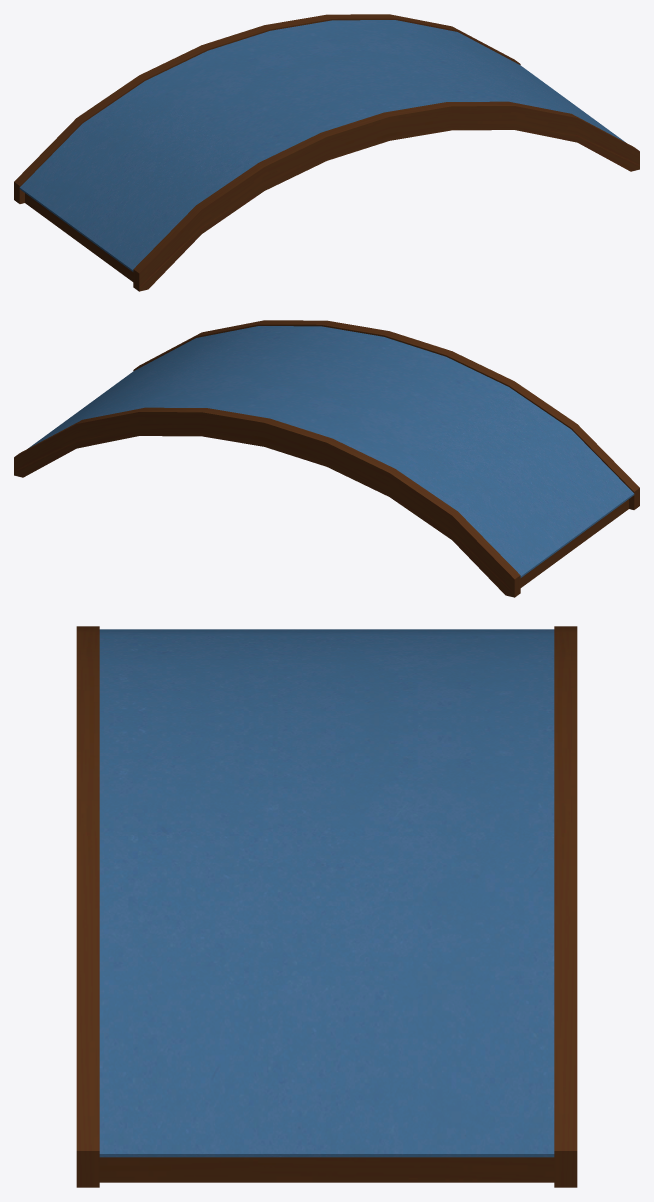
File: MerchBooth_Roof.fbx
The picture shows the model from 3 angles, top to bottom: view 1: azimuth 30°, elevation 25°; view 2: azimuth 150°, elevation 25°; view 3: azimuth 270°, elevation 25°; orthographic projection. The views are drawn at different scales.
Parts seen in each view (by area): view 1: MerchBooth_Roof; view 2: MerchBooth_Roof; view 3: MerchBooth_Roof.
Part boxes in pixels (box(x1,y1,x2,y2)): MerchBooth_Roof: box(14, 14, 639, 291); MerchBooth_Roof: box(14, 320, 639, 597); MerchBooth_Roof: box(76, 626, 577, 1187).
Bounding box in the file's own units: 462 × 100 × 200.
